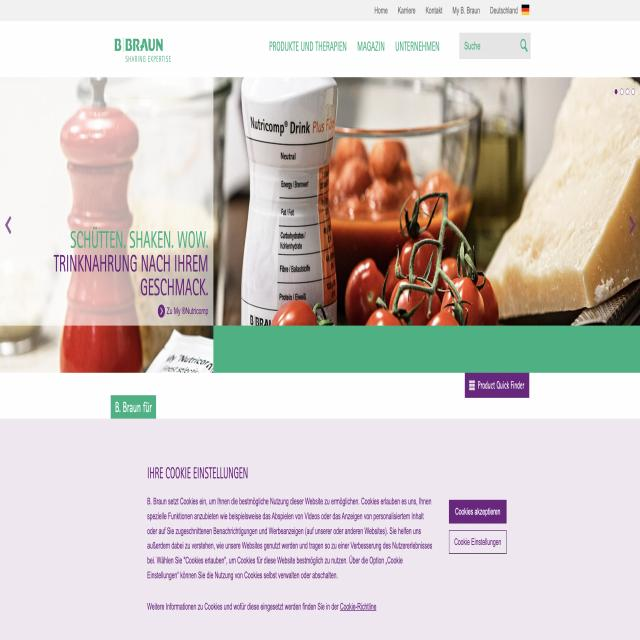Logo: (108, 25, 182, 74)
Navigation: (257, 28, 563, 66)
